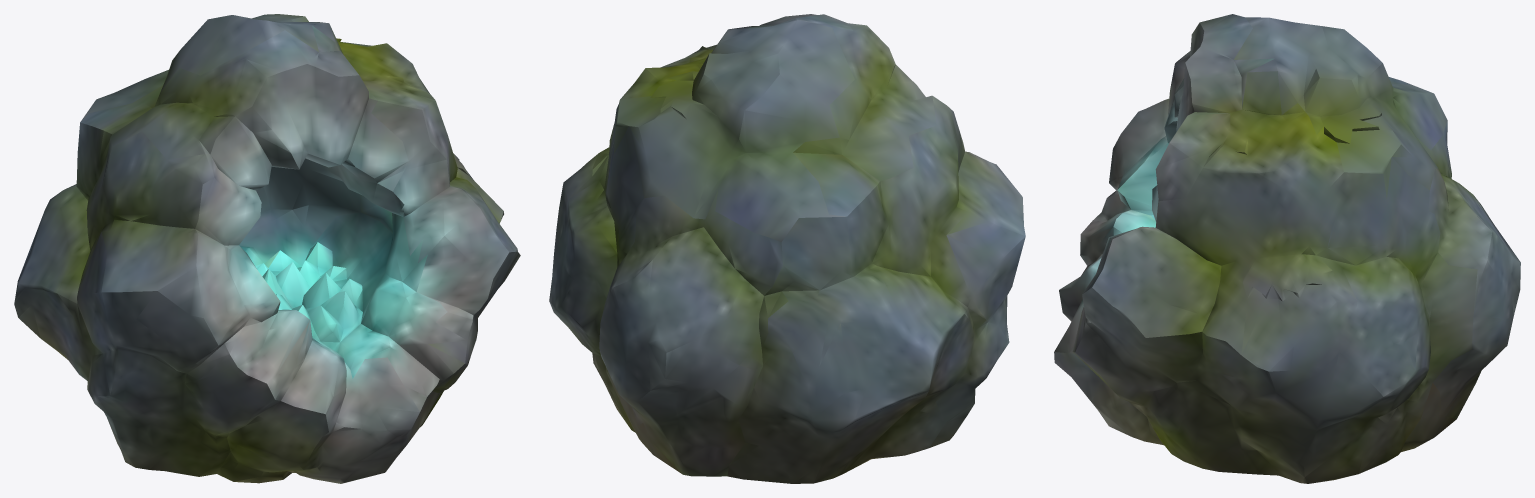
Rendered from geoda_resonante.glb.
The picture shows the model from 3 angles, left to right: view 1: azimuth 30°, elevation 25°; view 2: azimuth 150°, elevation 25°; view 3: azimuth 270°, elevation 25°; orthographic projection. The views are drawn at different scales.
Parts seen in each view (by area): view 1: geoda_resonante_malla; view 2: geoda_resonante_malla; view 3: geoda_resonante_malla.
Part boxes in pixels (x1,y1,x2,y2): geoda_resonante_malla: [14, 14, 520, 483]; geoda_resonante_malla: [549, 14, 1025, 483]; geoda_resonante_malla: [1054, 14, 1520, 483].
Size of the model in its own units: 0.2009 by 0.1771 by 0.1913.
1 material, 1 textured.
